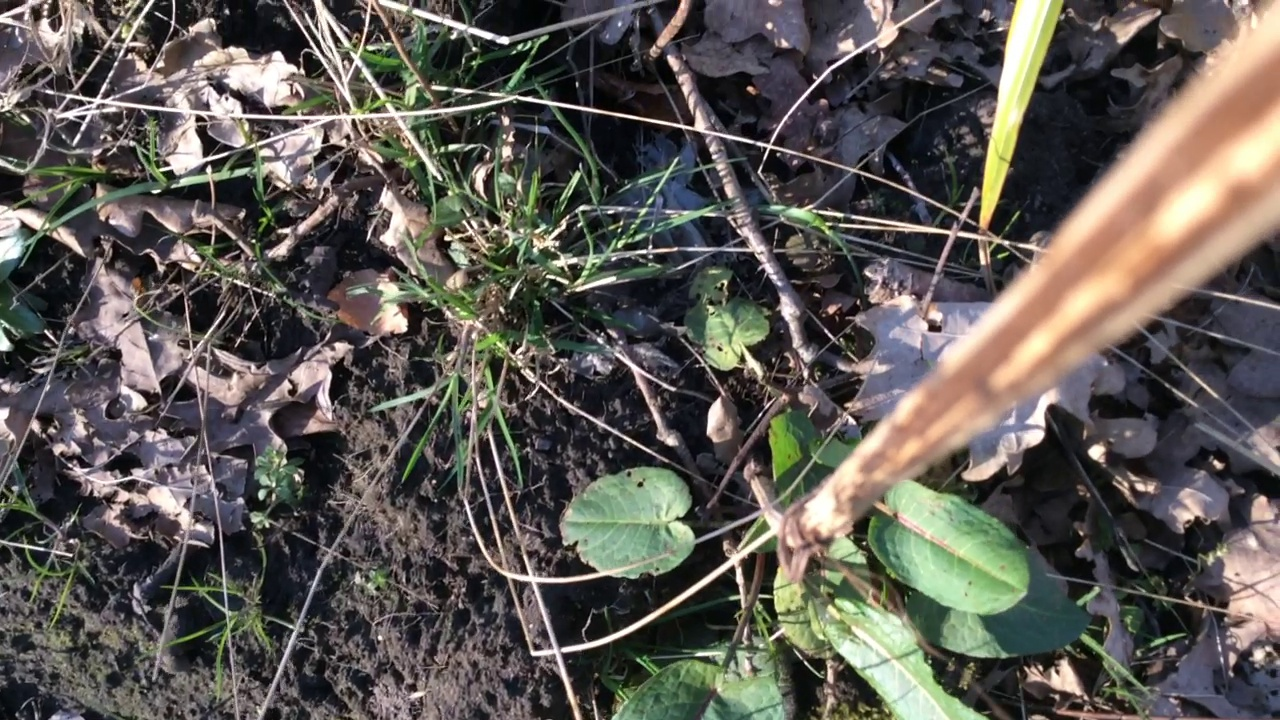rumex: (560, 269, 1091, 720)
